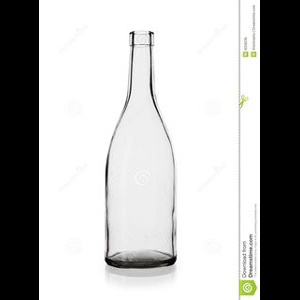emptybottle: (105, 31, 177, 267)
